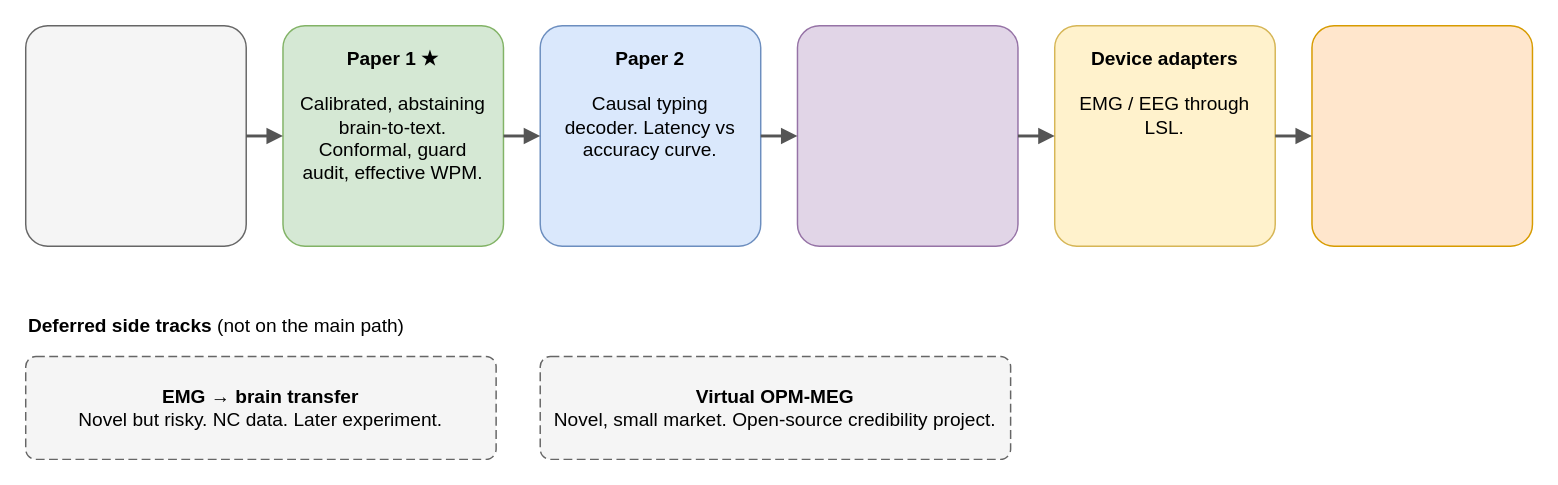
This 1558x485 diagram has some shape labels left out. The box of each missing label's shape, as (x1, y1, x2, y2) in pixels:
Benchmark release Open harness, splits and metrics (Apache-2.0).: (796, 24, 1018, 246)
Phase 0: setup PyTorch/ROCm test. Get SpanishBCBL MEG. Build the simulator.: (24, 24, 246, 246)
Product pilots Partners and private add-ons.: (1311, 24, 1532, 246)
